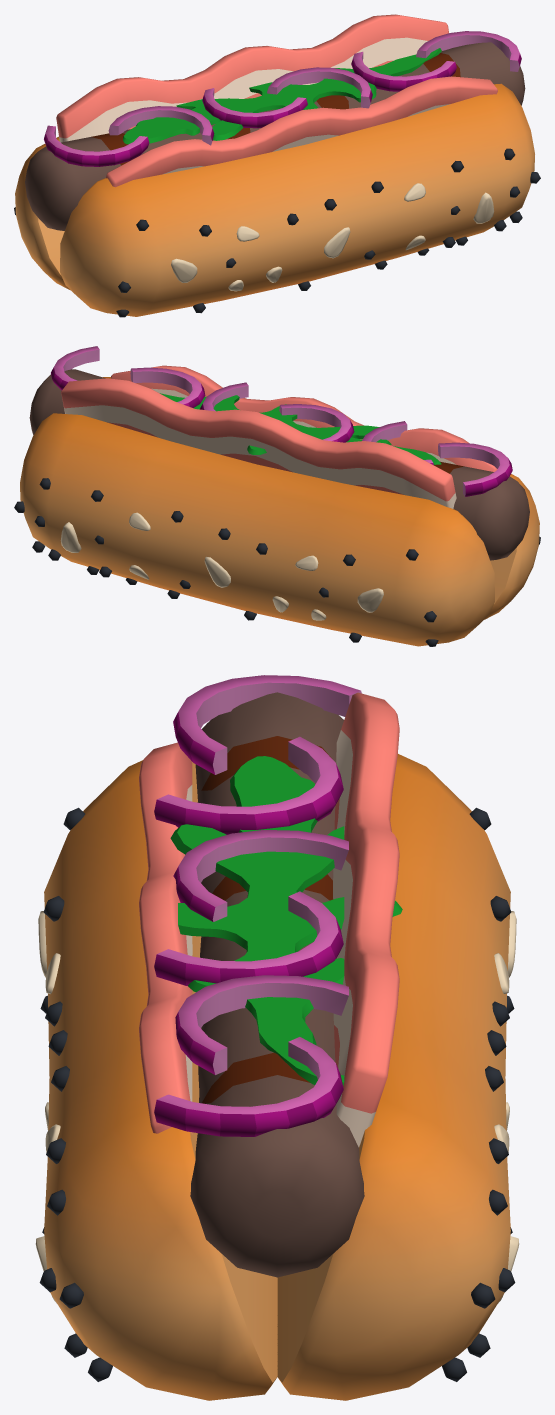
Rendered from HotDog_bun_03.fbx.
3 renders of one model, top to bottom at view 1: azimuth 30°, elevation 25°; view 2: azimuth 150°, elevation 25°; view 3: azimuth 270°, elevation 25°, orthographic. The views are drawn at different scales.
Parts seen in each view (by area): view 1: HotDog_bun_03; view 2: HotDog_bun_03; view 3: HotDog_bun_03.
Boxes of the visible parts, x1=… form: HotDog_bun_03: x1=14, y1=14, x2=540, y2=317; HotDog_bun_03: x1=14, y1=346, x2=540, y2=646; HotDog_bun_03: x1=35, y1=675, x2=519, y2=1400.
Size of the model in its own units: 160 by 69.97 by 63.61.
